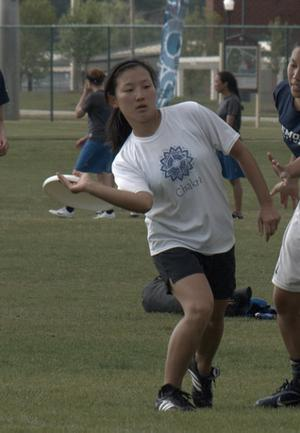person: (57, 59, 283, 414)
